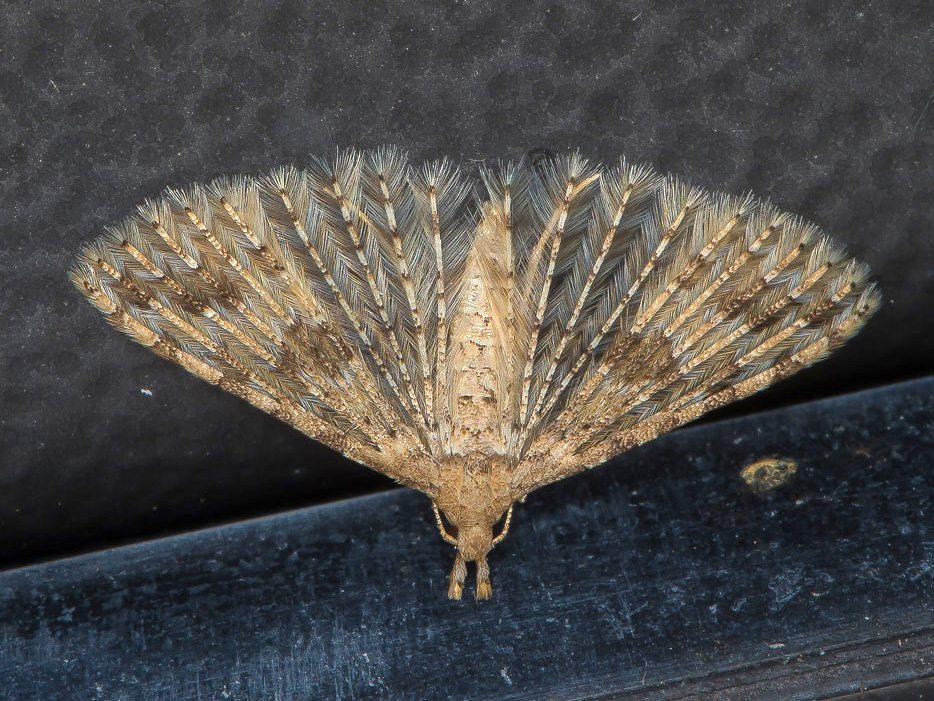Alucitidae: (52, 130, 892, 608)
moth: (54, 132, 894, 610)
